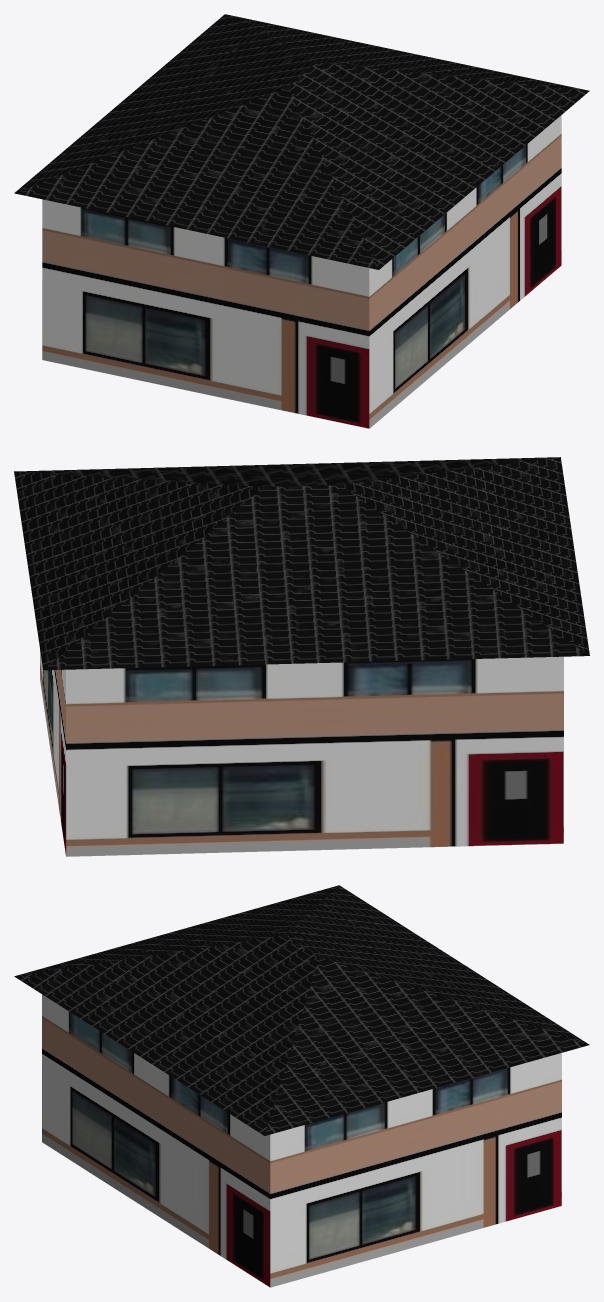
The picture shows the model from 3 angles, top to bottom: view 1: azimuth 30°, elevation 25°; view 2: azimuth 150°, elevation 25°; view 3: azimuth 270°, elevation 25°; orthographic projection. The views are drawn at different scales.
Parts seen in each view (by area): view 1: CityEngineMaterial_5_m, CityEngineMaterial_14_m; view 2: CityEngineMaterial_14_m, CityEngineMaterial_5_m; view 3: CityEngineMaterial_5_m, CityEngineMaterial_14_m.
Part boxes in pixels (x1=…): CityEngineMaterial_5_m: x1=42, y1=115, x2=561, y2=428; CityEngineMaterial_14_m: x1=14, y1=14, x2=589, y2=269; CityEngineMaterial_14_m: x1=14, y1=457, x2=589, y2=670; CityEngineMaterial_5_m: x1=40, y1=650, x2=563, y2=856; CityEngineMaterial_5_m: x1=42, y1=994, x2=561, y2=1287; CityEngineMaterial_14_m: x1=14, y1=885, x2=589, y2=1135.
Size of the model in its own units: 27.56 by 11.67 by 26.74.
